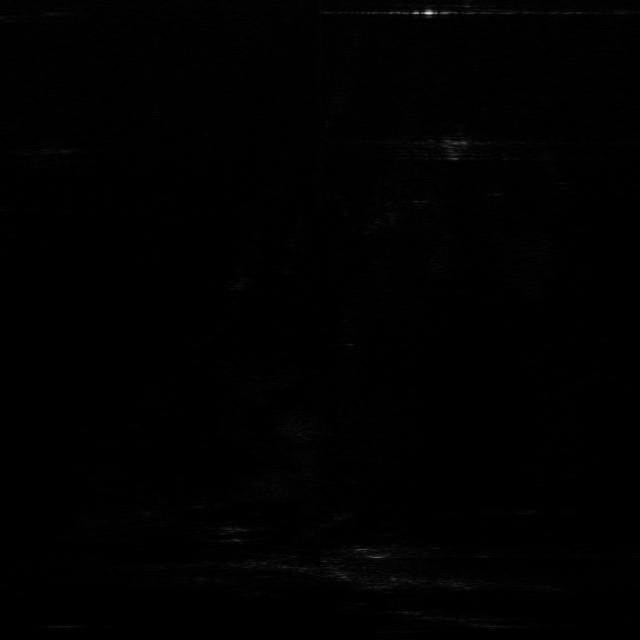rov: (441, 136, 472, 162)
